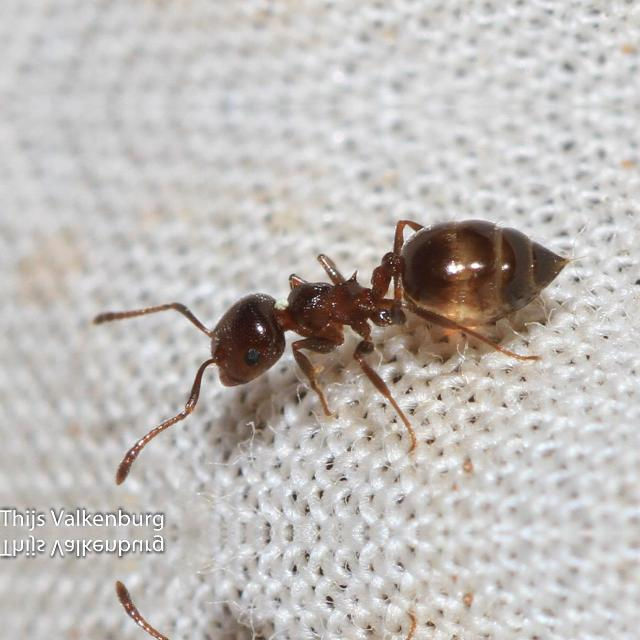Crematogaster: (170, 209, 572, 405)
